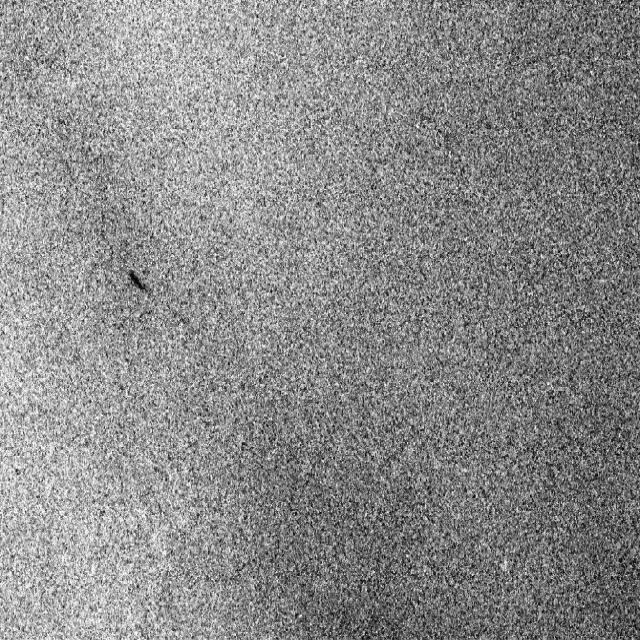oil-spill: (124, 258, 152, 304)
